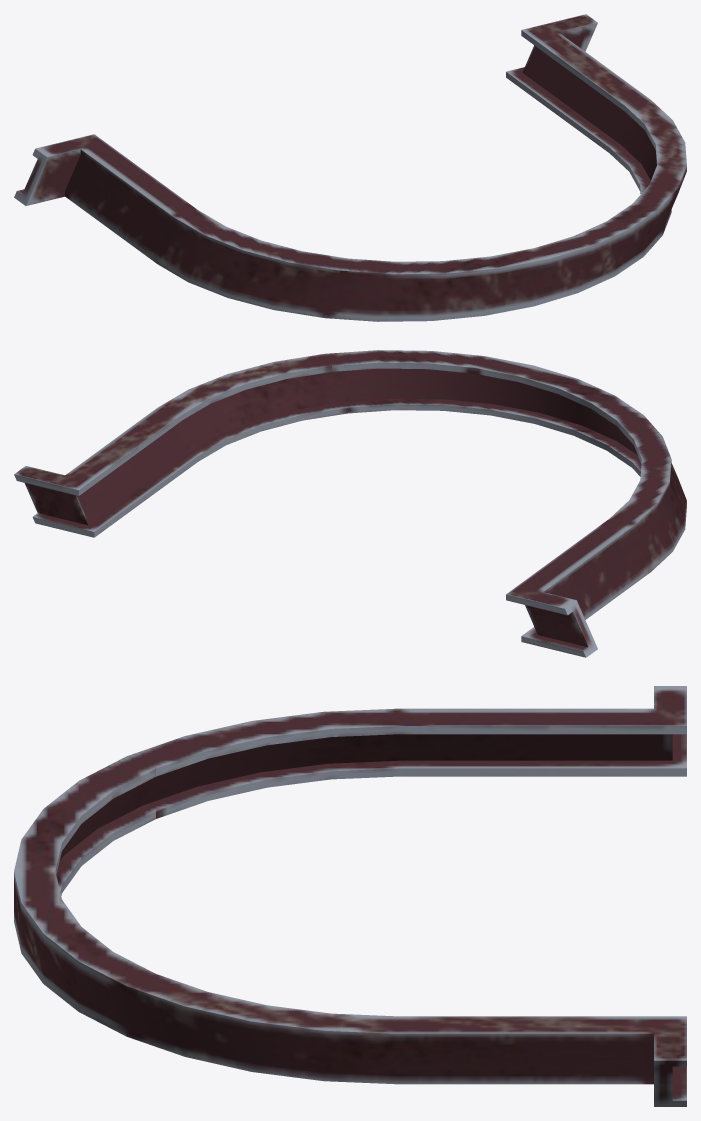
File: beam_vert_lean_L.fbx
3 views of the same model, one above another, from view 1: azimuth 30°, elevation 25°; view 2: azimuth 150°, elevation 25°; view 3: azimuth 270°, elevation 25° (orthographic). The views are drawn at different scales.
Parts seen in each view (by area): view 1: beam_hor_03.001; view 2: beam_hor_03.001; view 3: beam_hor_03.001.
Boxes of the visible parts, x1,y1,x2,y2 form: beam_hor_03.001: (14, 14, 686, 321); beam_hor_03.001: (14, 350, 686, 657); beam_hor_03.001: (14, 686, 686, 1106).
Size of the model in its own units: 2855 by 209 by 2088.
